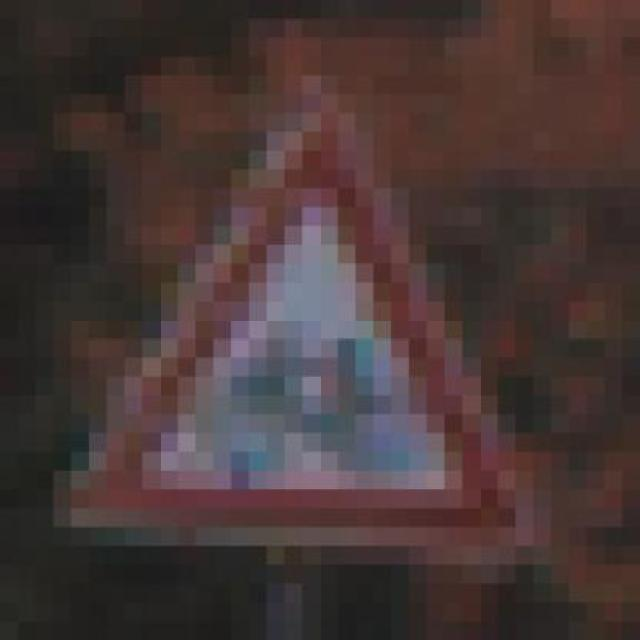CYCLE ROUTE AHEAD WARNING: (35, 75, 551, 583)
